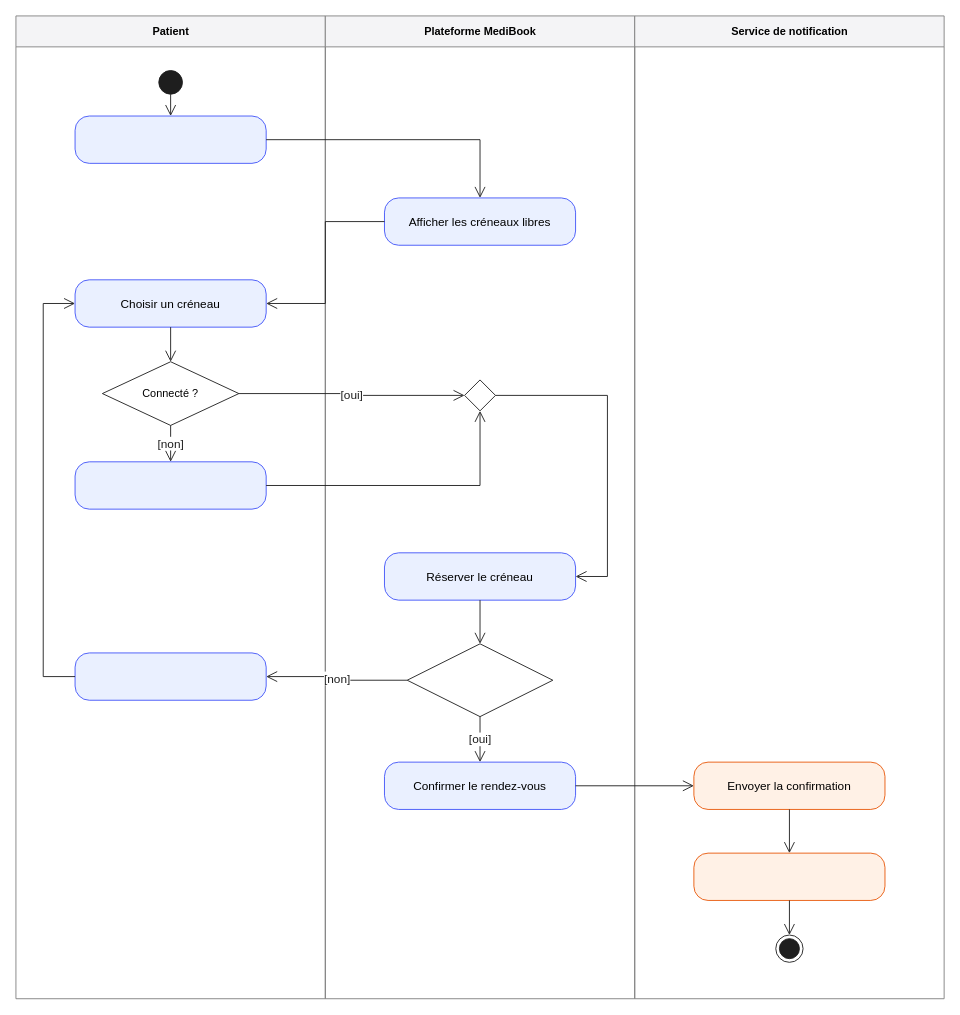
Some shapes in this 960 by 1015 pixel diagram are drawn without their labels. The shapes that lost their labels are listed below. From the top down, each one's centre as x and y in pixels, then its label:
At point (170, 139): "Rechercher un praticien".
At point (170, 485): "Se connecter ou créer un compte".
At point (170, 676): "Choisir un autre créneau".
At point (479, 680): "Créneau encore libre ?".
At point (789, 876): "Planifier le rappel J-1".
